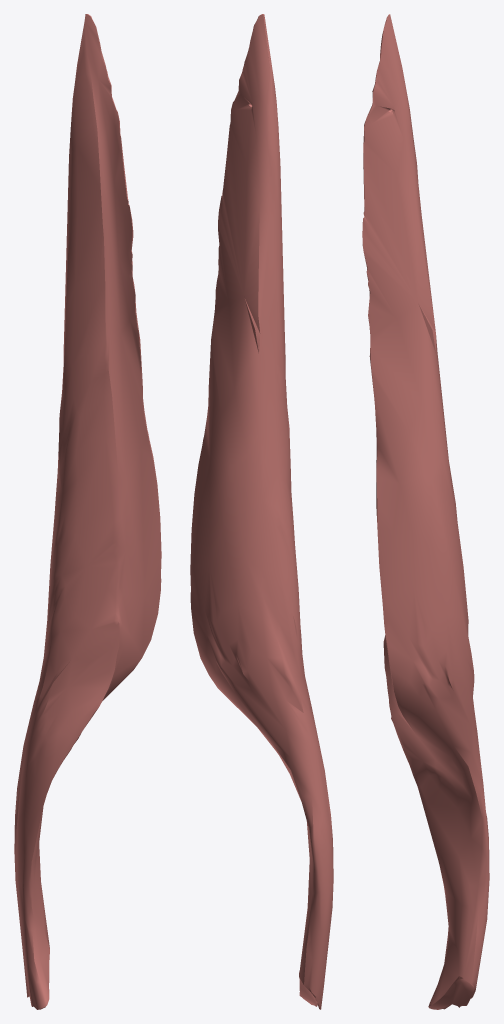
The model's file is fma45891_mm1649m.glb.
3 renders of one model, left to right at view 1: azimuth 30°, elevation 25°; view 2: azimuth 210°, elevation 25°; view 3: azimuth 270°, elevation 25°, orthographic. The views are drawn at different scales.
Parts seen in each view (by area): view 1: FMA45891_MM1649M; view 2: FMA45891_MM1649M; view 3: FMA45891_MM1649M.
Part boxes in pixels (<box>): FMA45891_MM1649M: <box>14,14,161,1009</box>; FMA45891_MM1649M: <box>190,14,333,1009</box>; FMA45891_MM1649M: <box>362,14,489,1009</box>.
Size of the model in its own units: 0.0364 by 0.3184 by 0.0364.
